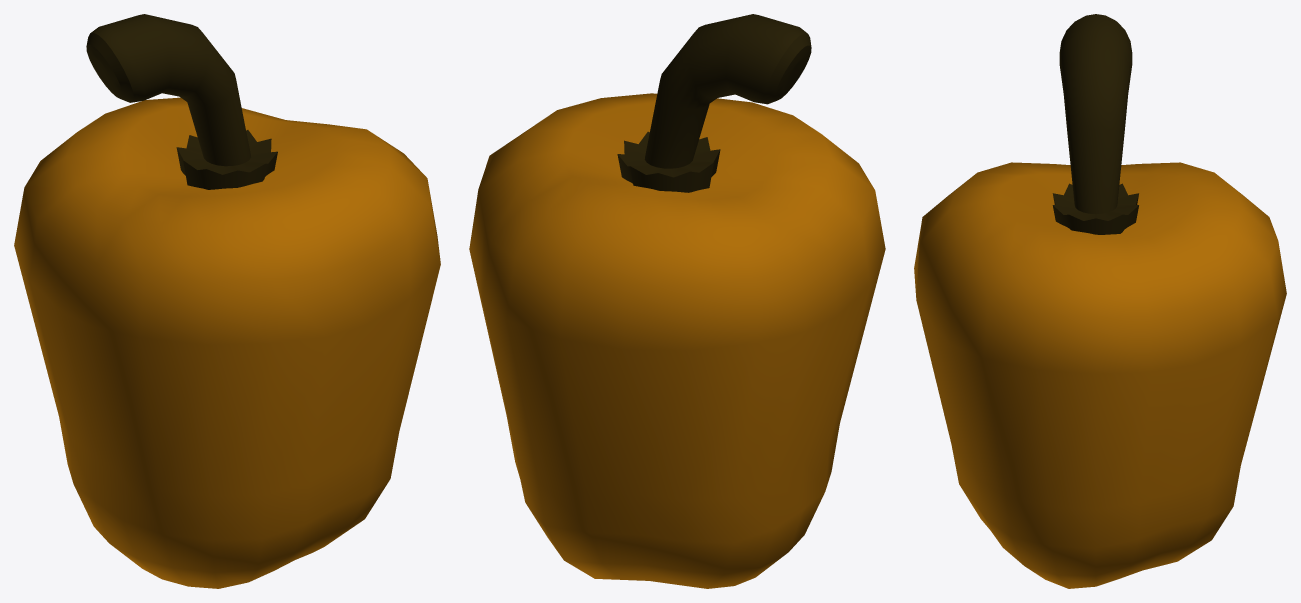
File: Fruit_Capsicum.fbx
3 renders of one model, left to right at view 1: azimuth 30°, elevation 25°; view 2: azimuth 150°, elevation 25°; view 3: azimuth 270°, elevation 25°, orthographic. The views are drawn at different scales.
Visible parts, largest first — view 1: pasted__pCylinder5; view 2: pasted__pCylinder5; view 3: pasted__pCylinder5.
Part boxes in pixels (box(x1,y1,x2,y2)): pasted__pCylinder5: box(14, 14, 440, 588); pasted__pCylinder5: box(469, 14, 885, 588); pasted__pCylinder5: box(914, 14, 1286, 588).
Size of the model in its own units: 0.409 by 0.6096 by 0.4201.
